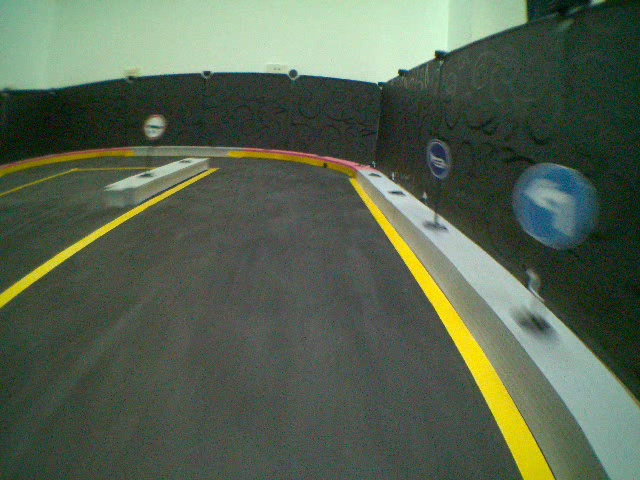Check: (142, 113, 169, 140)
horn: (424, 138, 460, 182)
turn: (506, 163, 603, 251)
